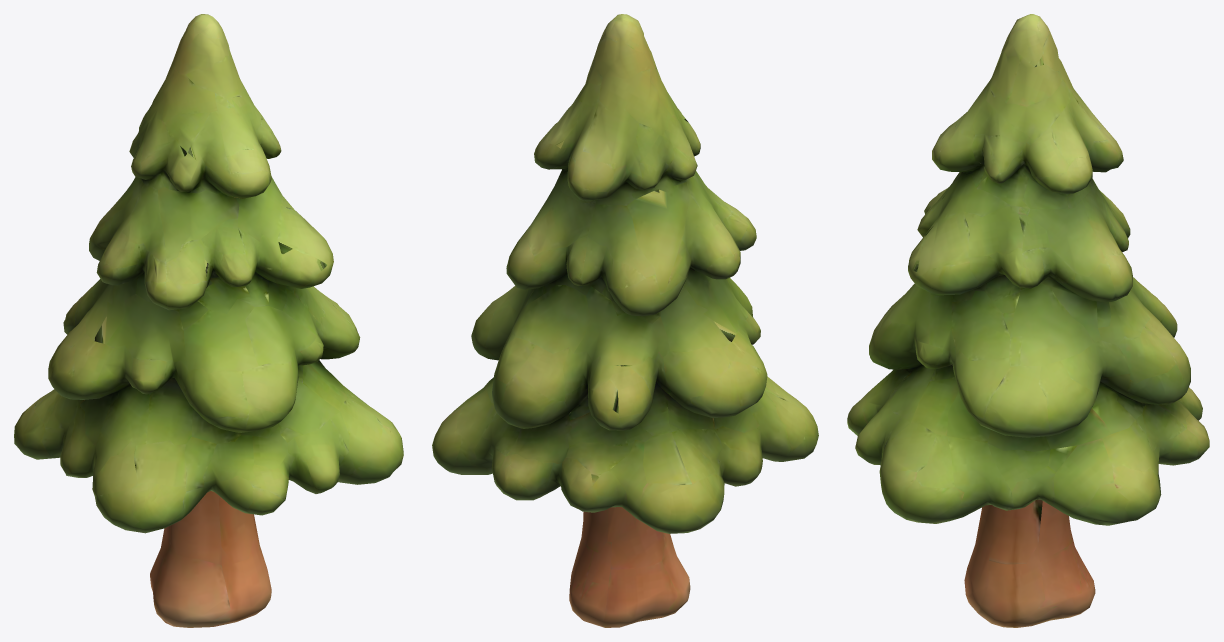
The model's file is pine.glb.
The picture shows the model from 3 angles, left to right: view 1: azimuth 30°, elevation 25°; view 2: azimuth 150°, elevation 25°; view 3: azimuth 270°, elevation 25°; orthographic projection.
Size of the model in its own units: 0.9746 by 1.91 by 1.05.
Materials: 1 (1 with a texture image).
